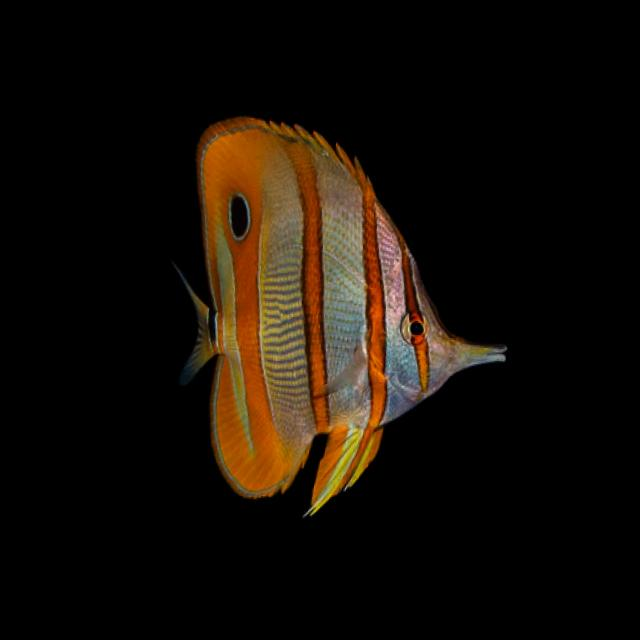ButterflyFish: (148, 110, 527, 534)
